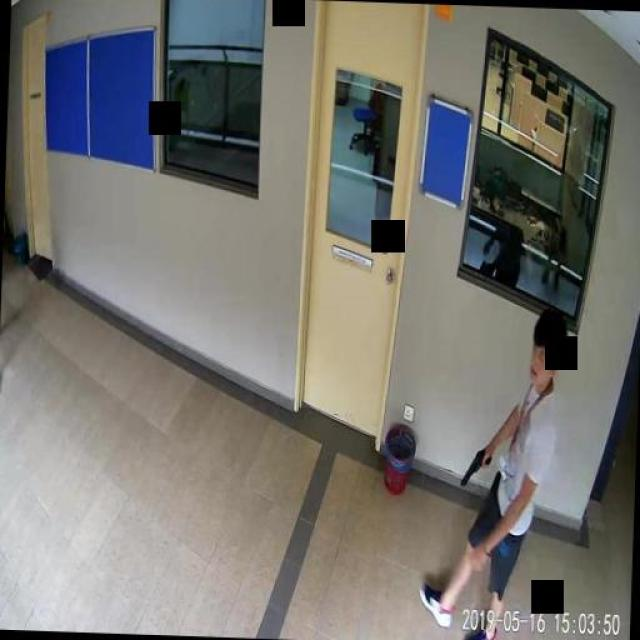gun: (460, 445, 490, 484)
